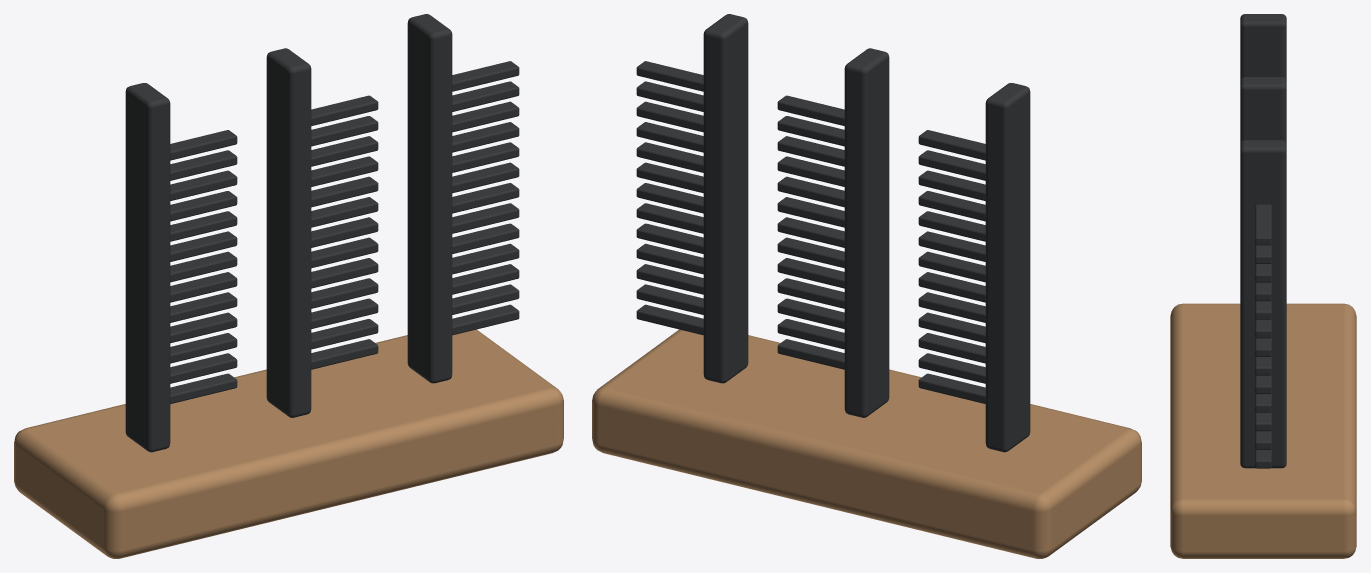
File: barbershop-and-hair-salon-comb-rack-089de1e5__29663.glb
The picture shows the model from 3 angles, left to right: view 1: azimuth 30°, elevation 25°; view 2: azimuth 150°, elevation 25°; view 3: azimuth 270°, elevation 25°; orthographic projection. The views are drawn at different scales.
Parts seen in each view (by area): view 1: comb-rack; view 2: comb-rack; view 3: comb-rack.
Part boxes in pixels (x1,y1,x2,y2): comb-rack: (14, 14, 563, 558); comb-rack: (592, 14, 1141, 558); comb-rack: (1170, 14, 1356, 558).
Size of the model in its own units: 0.26 by 0.225 by 0.1.
